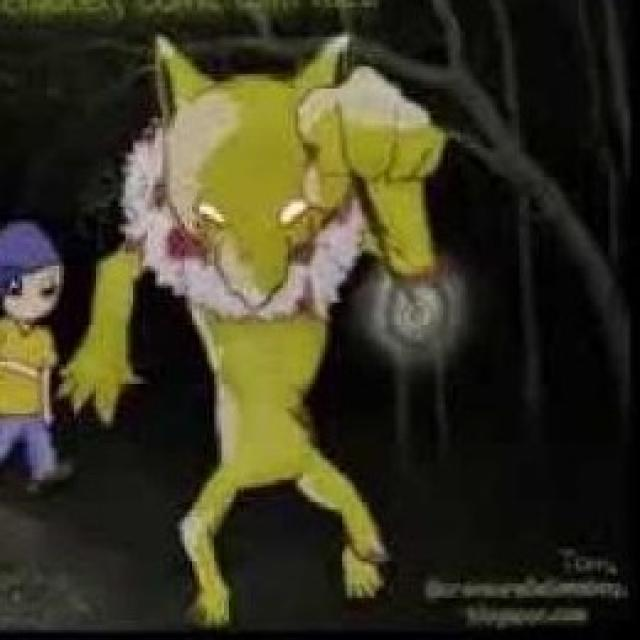Hypno: (124, 36, 448, 562)
